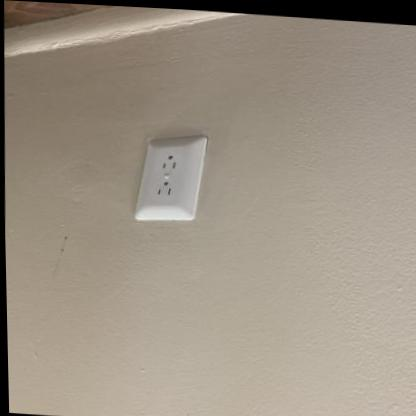OUTLET: (136, 133, 205, 222)
